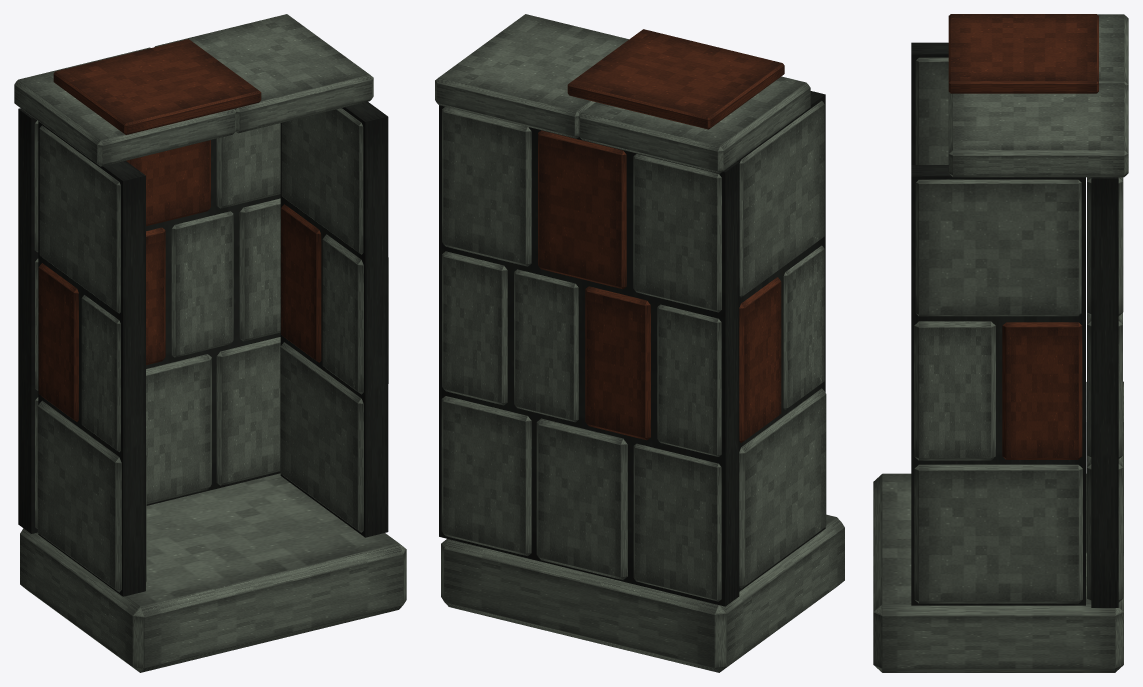
The model's file is THStage_FindSupport_17.fbx.
The picture shows the model from 3 angles, left to right: view 1: azimuth 30°, elevation 25°; view 2: azimuth 150°, elevation 25°; view 3: azimuth 270°, elevation 25°; orthographic projection. The views are drawn at different scales.
Visible parts, largest first — view 1: THStage_FindSupport_17; view 2: THStage_FindSupport_17; view 3: THStage_FindSupport_17.
Part boxes in pixels (bbox=[...]): THStage_FindSupport_17: bbox=[14, 14, 406, 672]; THStage_FindSupport_17: bbox=[435, 14, 844, 672]; THStage_FindSupport_17: bbox=[873, 14, 1128, 672].
Size of the model in its own units: 0.434 by 0.781 by 0.336.
Materials: 1 (1 with a texture image).
